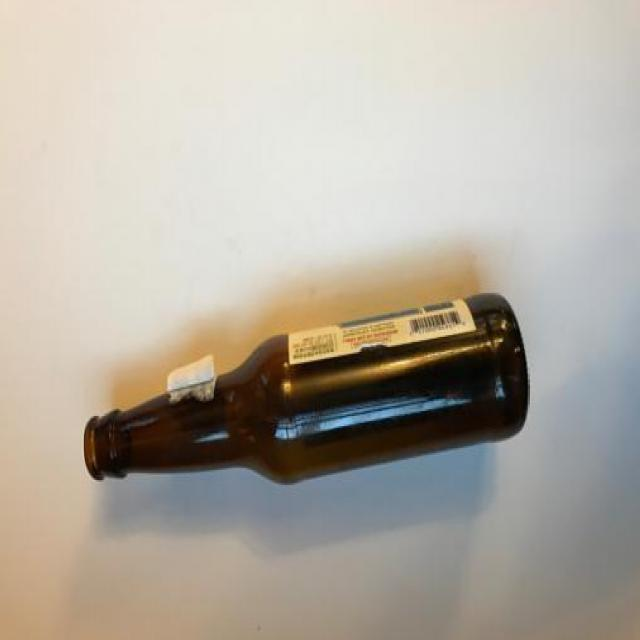glass: (85, 294, 529, 485)
